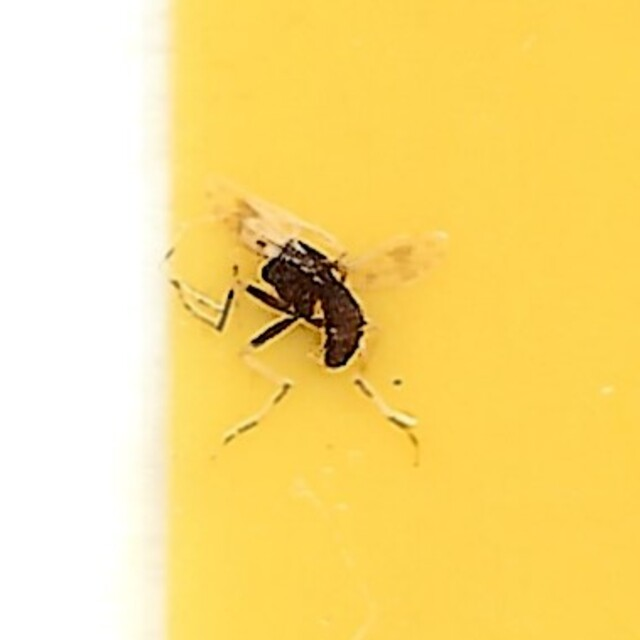Nematocera: (169, 171, 471, 469)
